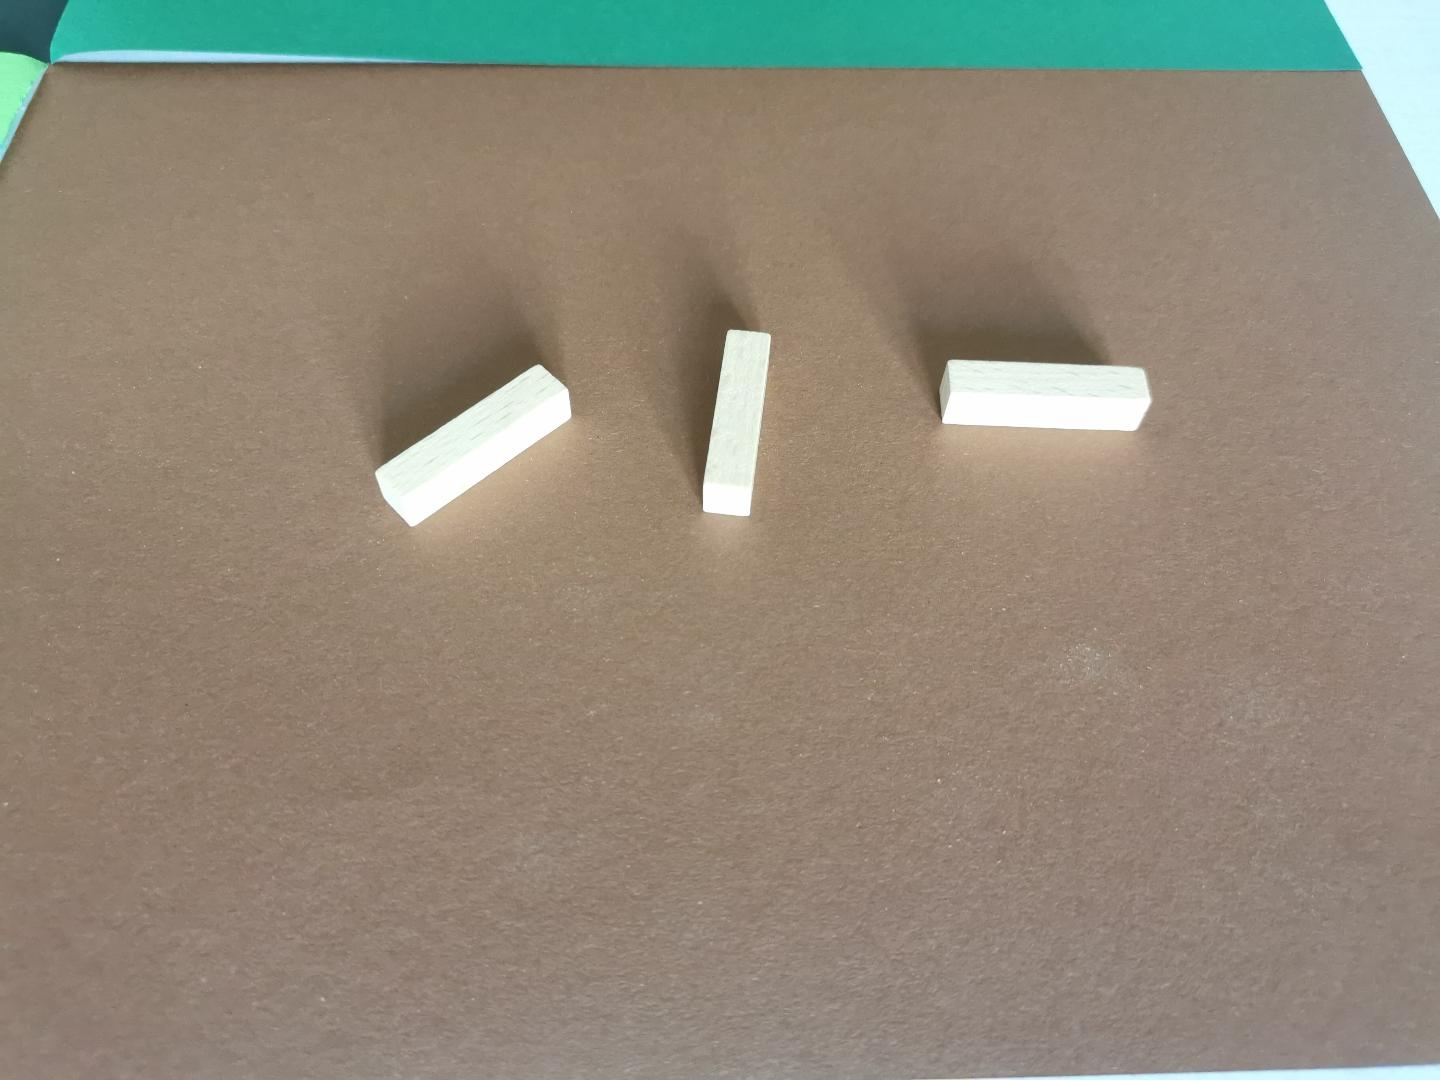jenga: (376, 365, 571, 526), (939, 360, 1151, 430), (703, 329, 771, 515)
